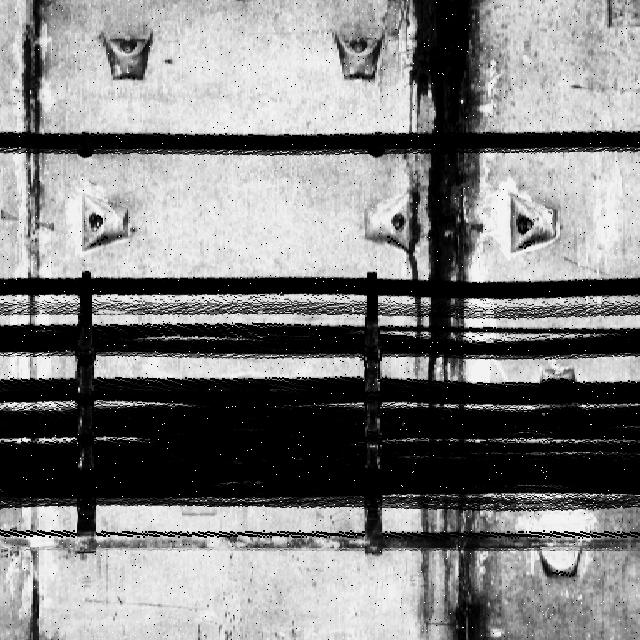leakage: (407, 0, 495, 384), (404, 494, 509, 639), (10, 0, 56, 269)
